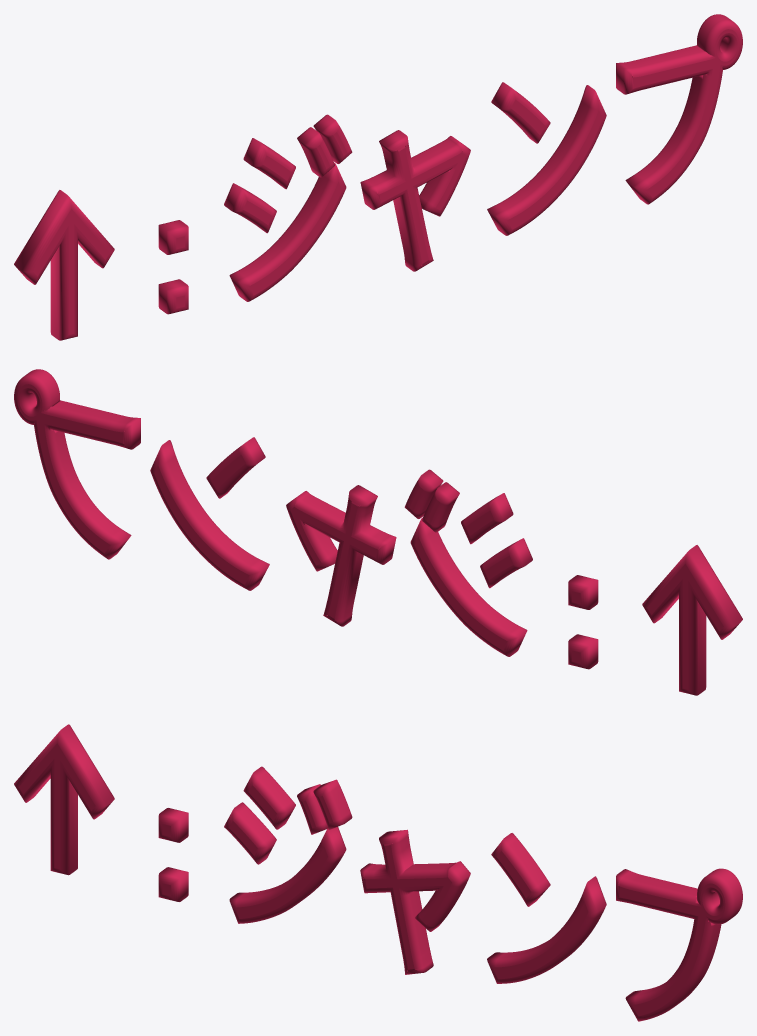
Rendered from upKeysText.obj.
3 views of the same model, one above another, from view 1: azimuth 30°, elevation 25°; view 2: azimuth 150°, elevation 25°; view 3: azimuth 330°, elevation 25° (orthographic).
Parts seen in each view (by area): view 1: テキスト; view 2: テキスト; view 3: テキスト.
Boxes of the visible parts, bbox=[...] form: テキスト: bbox=[14, 14, 742, 340]; テキスト: bbox=[14, 369, 742, 695]; テキスト: bbox=[14, 724, 742, 1021].
Size of the model in its own units: 3.51 by 0.8172 by 0.12.
